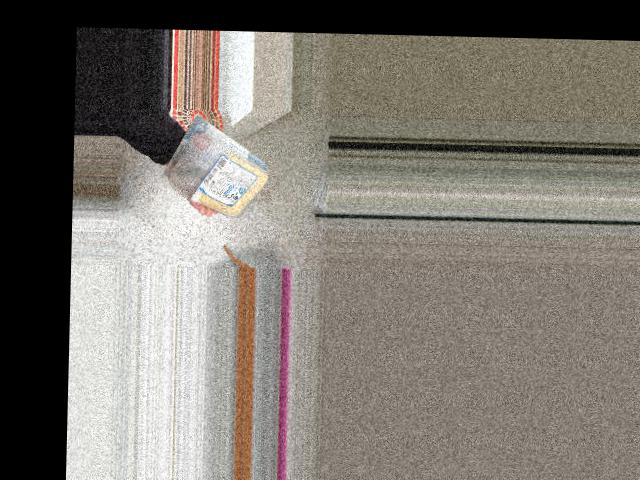cheese: (172, 130, 268, 217)
